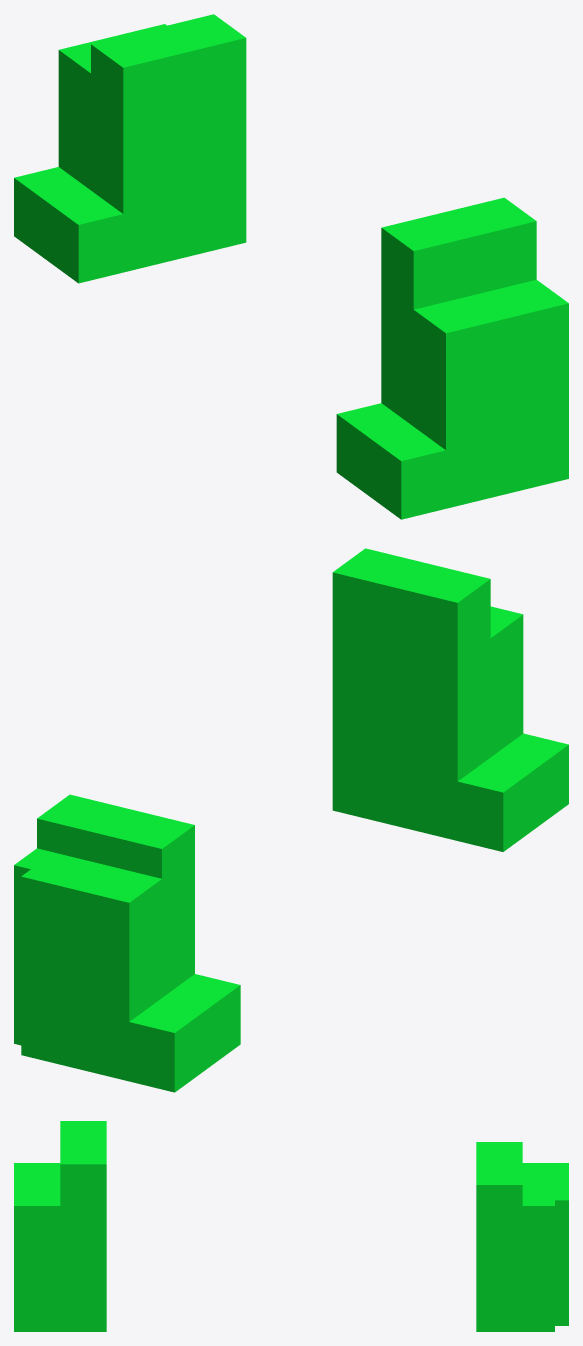
Rendered from flog2-1.obj.
The picture shows the model from 3 angles, top to bottom: view 1: azimuth 30°, elevation 25°; view 2: azimuth 150°, elevation 25°; view 3: azimuth 270°, elevation 25°; orthographic projection. The views are drawn at different scales.
Size of the model in its own units: 3 by 4 by 12.
Materials: 1 (1 with a texture image).
